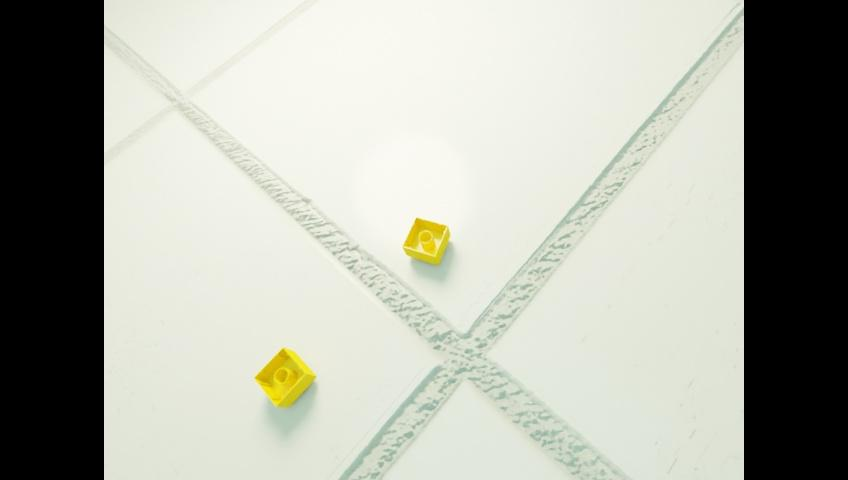2x2_yellow: (253, 346, 316, 407), (401, 216, 449, 264)
